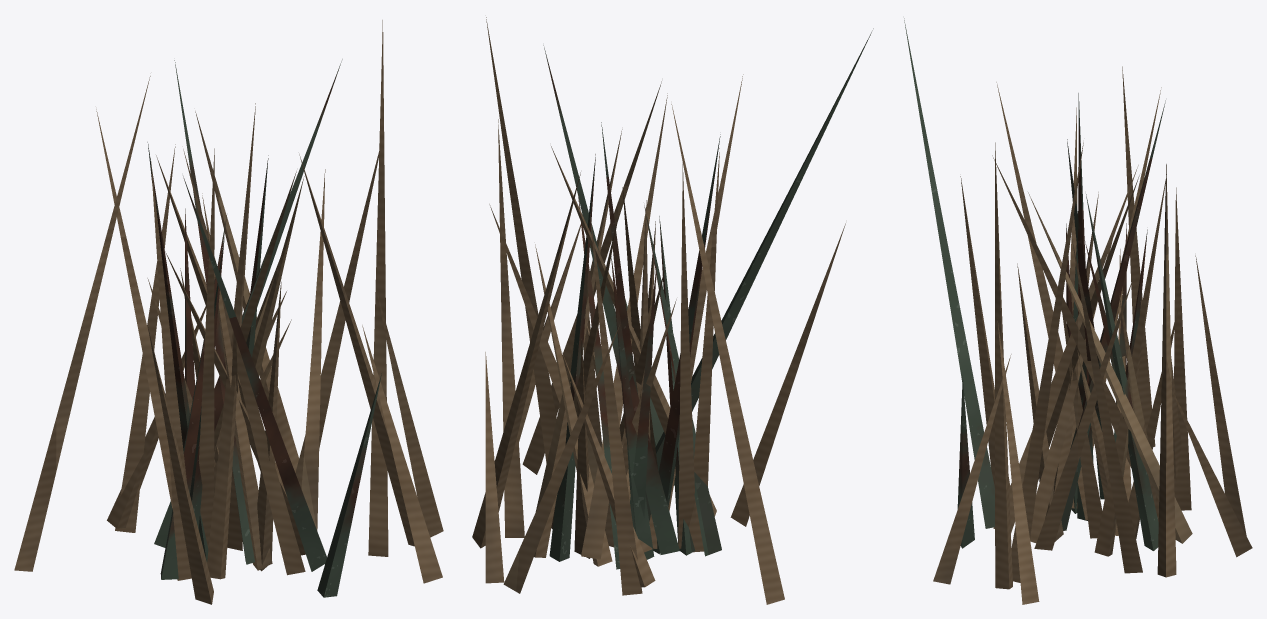
The model's file is NT03_tall_grass_clump_v3.glb.
3 renders of one model, left to right at view 1: azimuth 30°, elevation 25°; view 2: azimuth 150°, elevation 25°; view 3: azimuth 270°, elevation 25°, orthographic. The views are drawn at different scales.
Parts seen in each view (by area): view 1: NT03_tall_grass_clump_v3; view 2: NT03_tall_grass_clump_v3; view 3: NT03_tall_grass_clump_v3.
Part boxes in pixels (x1,y1,x2,y2): NT03_tall_grass_clump_v3: (14,20,443,604); NT03_tall_grass_clump_v3: (472,17,873,604); NT03_tall_grass_clump_v3: (904,18,1252,604).
Size of the model in its own units: 0.7534 by 1 by 0.684.
2 materials, 2 textured.
